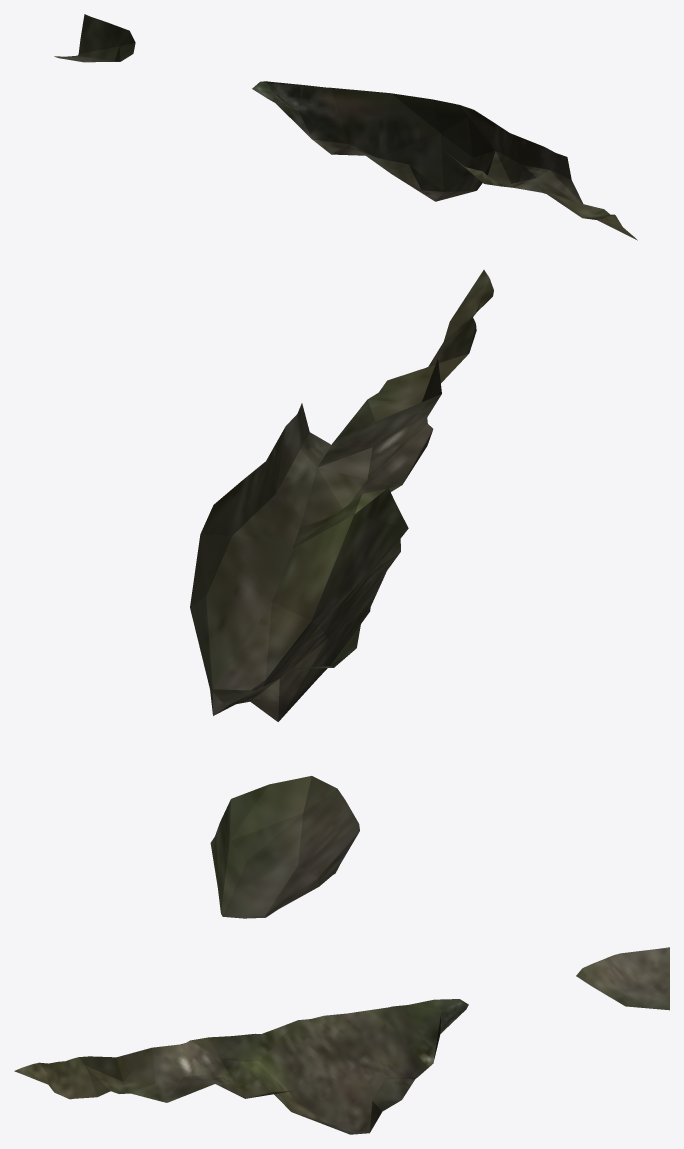
3 views of the same model, one above another, from view 1: azimuth 30°, elevation 25°; view 2: azimuth 150°, elevation 25°; view 3: azimuth 270°, elevation 25° (orthographic). The views are drawn at different scales.
Size of the model in its own units: 4.07 by 1.27 by 9.1.
1 material, 1 textured.
